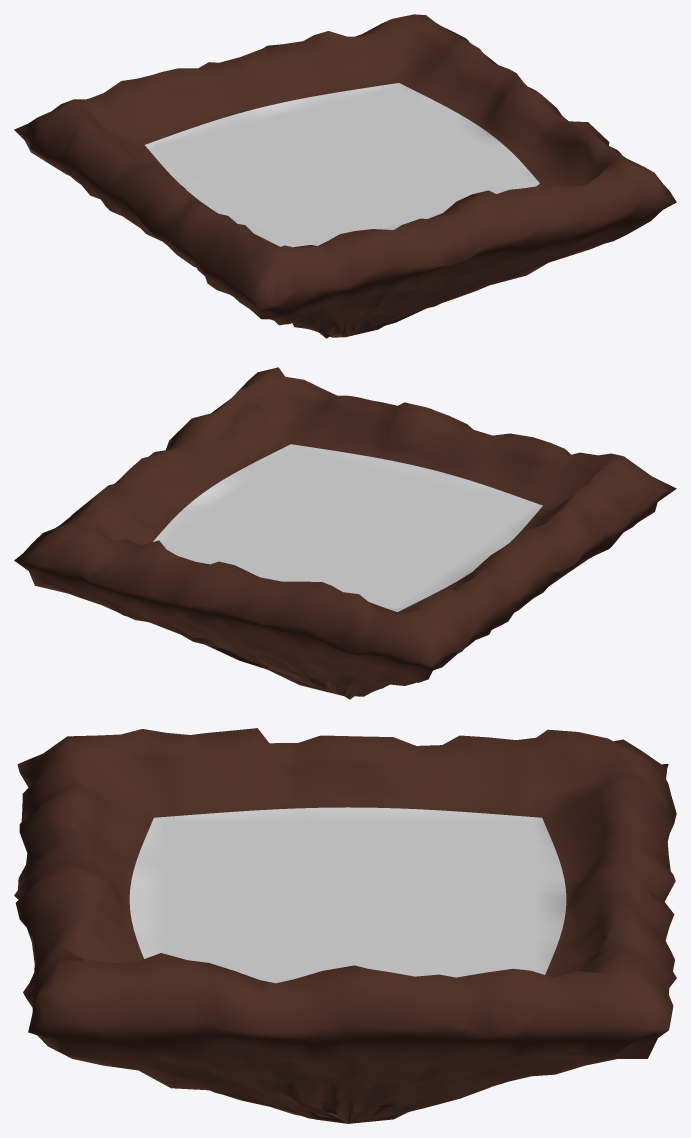
The model's file is Dark_Ground_Organic.fbx.
3 renders of one model, top to bottom at view 1: azimuth 30°, elevation 25°; view 2: azimuth 150°, elevation 25°; view 3: azimuth 270°, elevation 25°, orthographic. The views are drawn at different scales.
Visible parts, largest first — view 1: Plane; view 2: Plane; view 3: Plane.
Part boxes in pixels (left/top/right/bottom): Plane: left=14, top=14, right=676, bottom=338; Plane: left=14, top=367, right=676, bottom=699; Plane: left=14, top=728, right=676, bottom=1123.
Size of the model in its own units: 2607 by 1235 by 2609.
